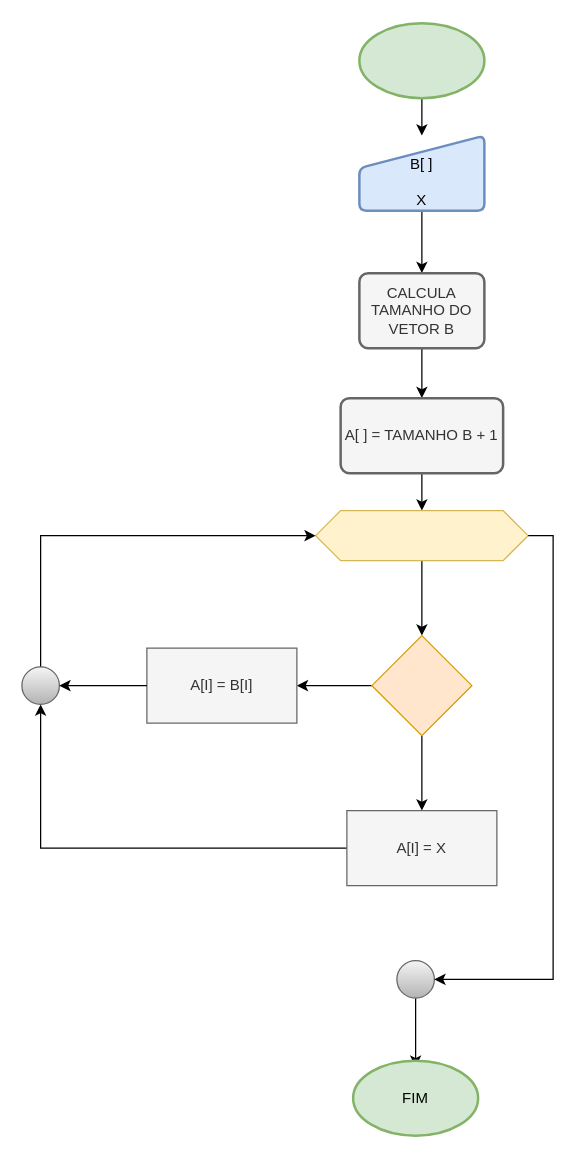
Image size: 585x1158. Some labels were removed from this diagram. Each missing label, with the centre of its shape:
"I=1, I <=TAMANHO, I++" goes at [421,535].
"INICIO" goes at [421,60].
"X > B[I] E X < B[I + 1]" goes at [421,685].
